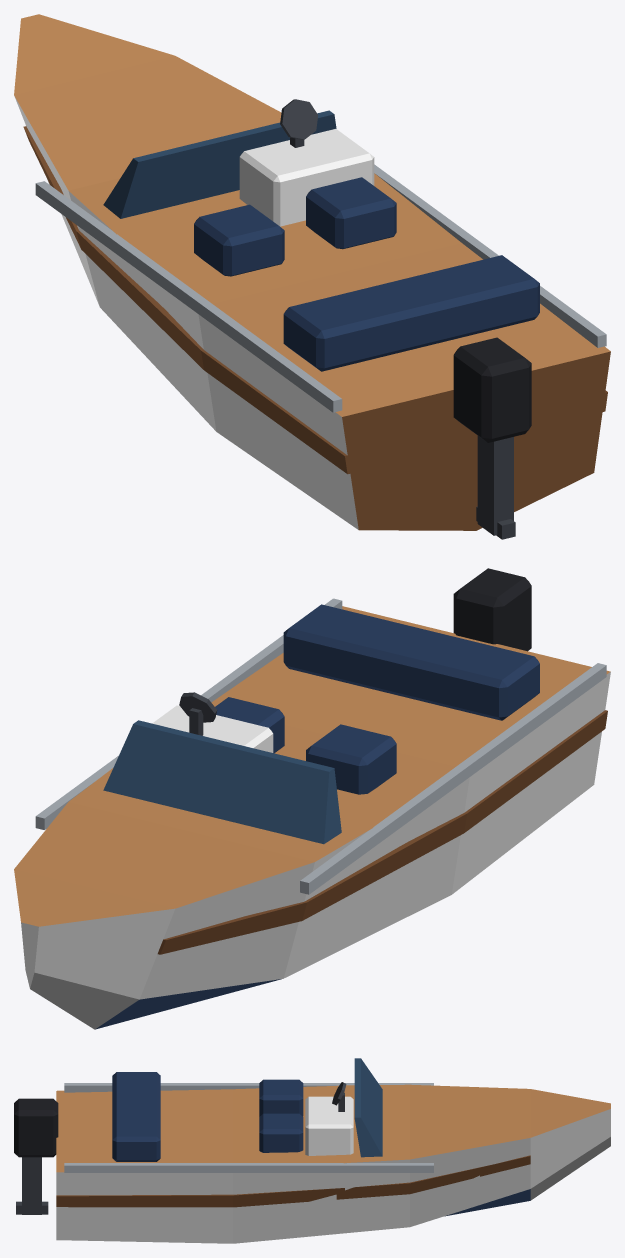
Rendered from Boat_Speedboat.glb.
The picture shows the model from 3 angles, top to bottom: view 1: azimuth 30°, elevation 25°; view 2: azimuth 150°, elevation 25°; view 3: azimuth 270°, elevation 25°; orthographic projection. The views are drawn at different scales.
Visible parts, largest first — view 1: Boat_Speedboat_Hull, Boat_Speedboat_Motor; view 2: Boat_Speedboat_Hull, Boat_Speedboat_Motor; view 3: Boat_Speedboat_Hull, Boat_Speedboat_Motor.
Part boxes in pixels (<box>): Boat_Speedboat_Hull: <box>14,14,610,530</box>; Boat_Speedboat_Motor: <box>453,337,531,539</box>; Boat_Speedboat_Hull: <box>14,598,610,1029</box>; Boat_Speedboat_Motor: <box>453,568,531,651</box>; Boat_Speedboat_Hull: <box>56,1058,610,1243</box>; Boat_Speedboat_Motor: <box>14,1098,58,1214</box>.
Size of the model in its own units: 2.44 by 2.21 by 7.43.
Materials: 1 (1 with a texture image).
